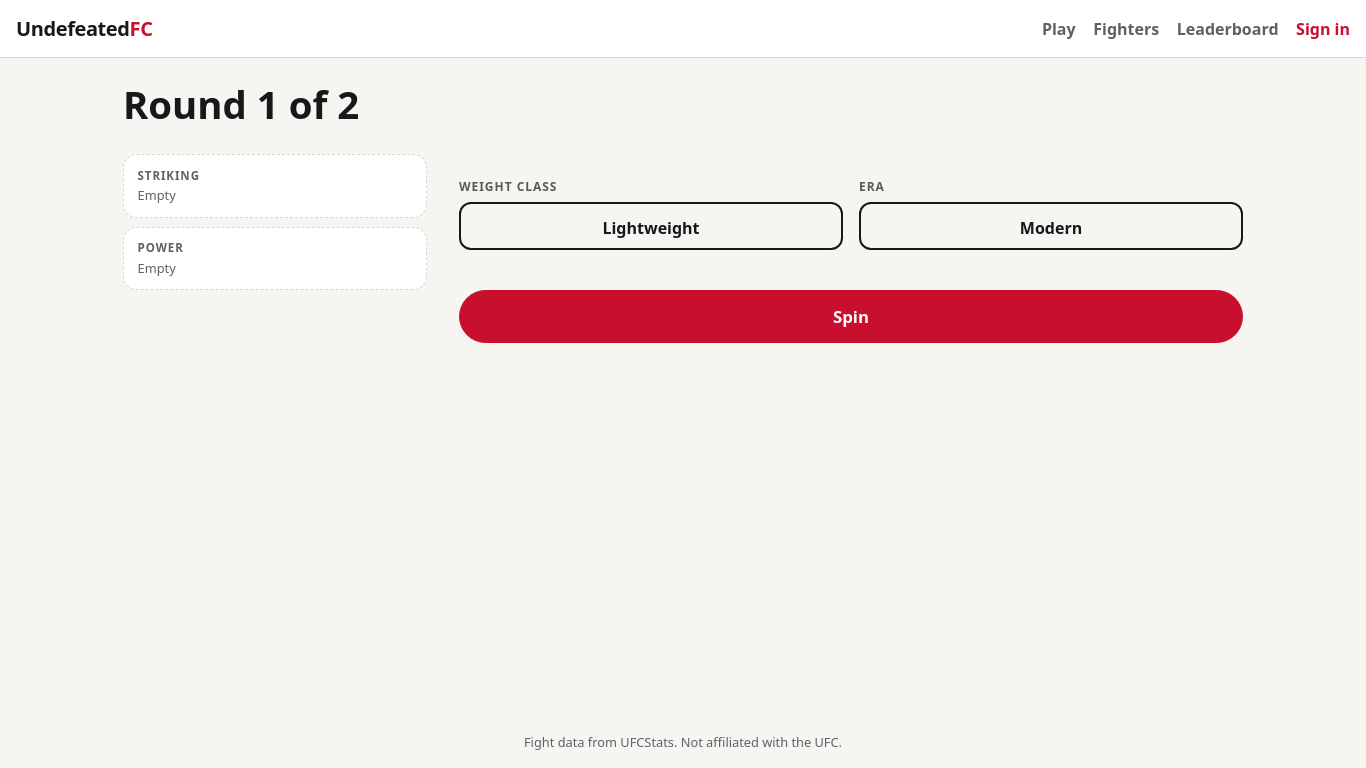
Scenario: shows the server message when a spin is refused
Click the button "Spin" at [851, 316], box [459, 290, 1243, 343]
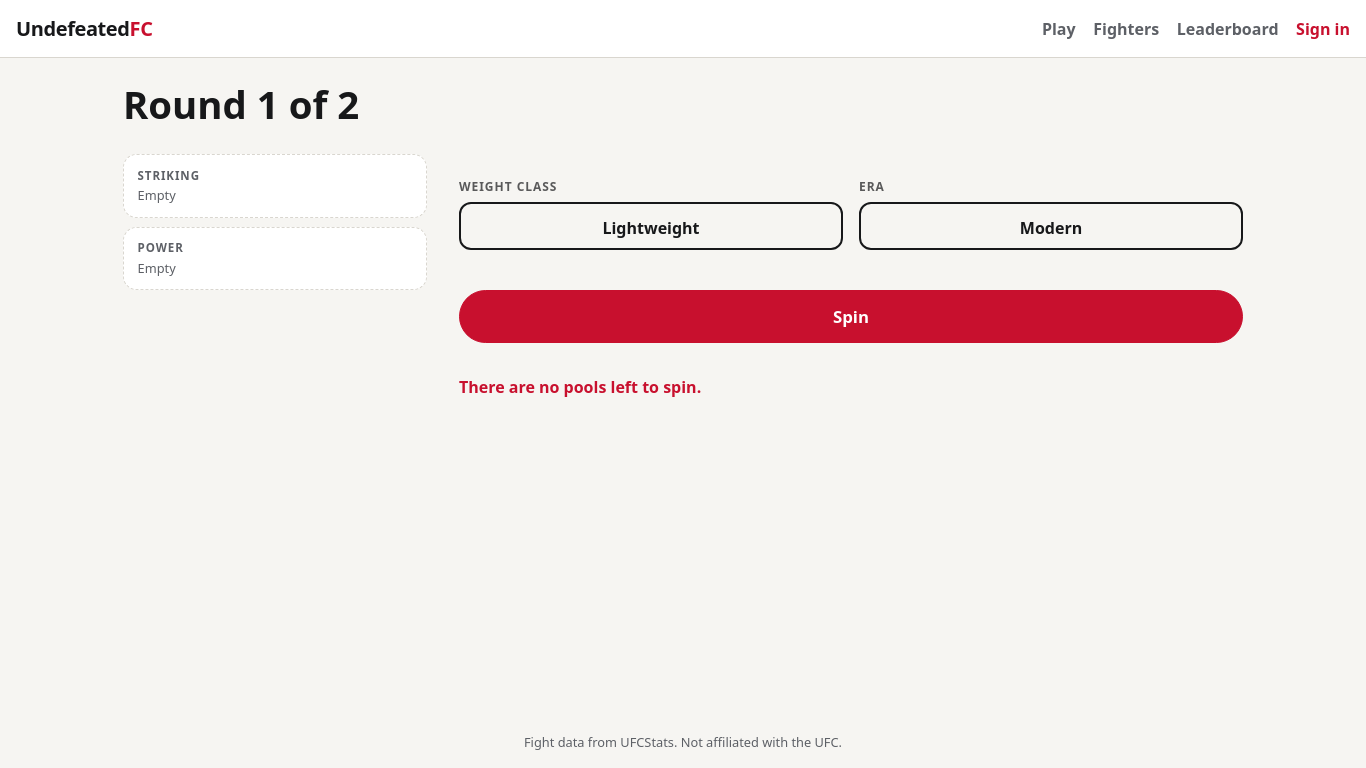
Now the message reads "There are no pools left to spin.", box [459, 376, 701, 398]
